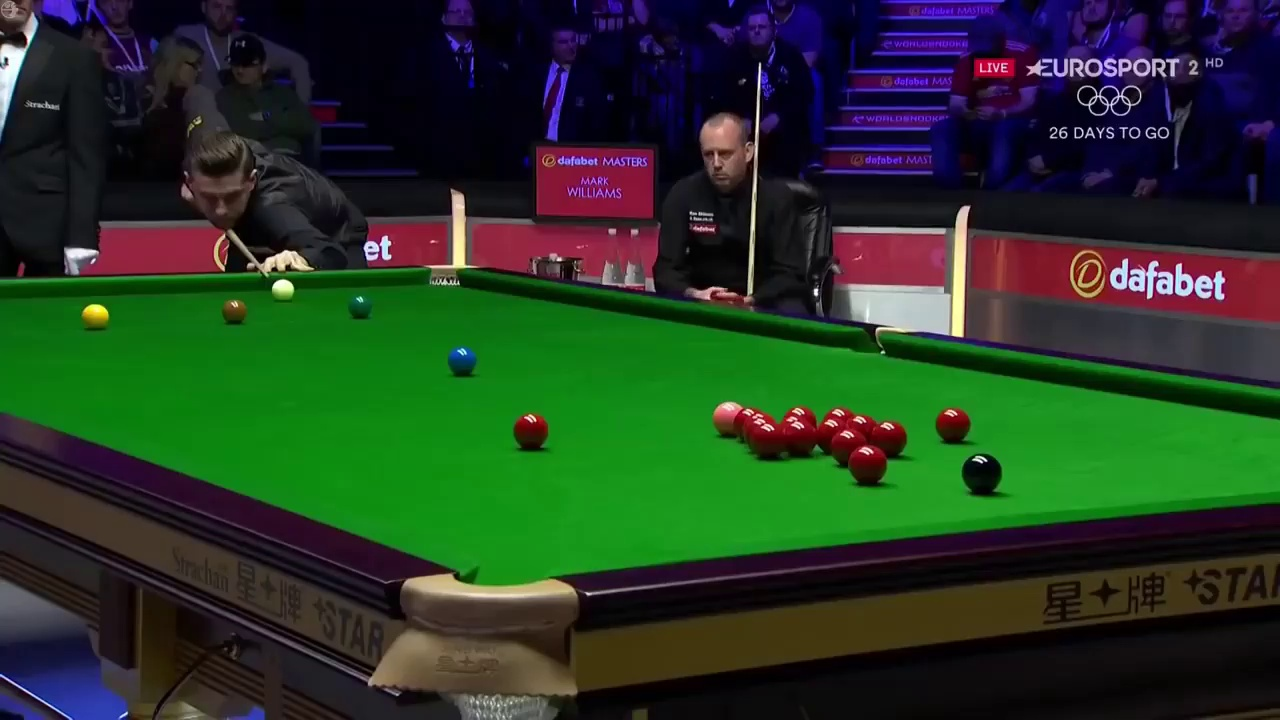black: (960, 454, 1001, 490)
blue: (446, 346, 478, 374)
brown: (223, 297, 248, 322)
green: (350, 293, 371, 317)
red: (848, 443, 887, 484), (512, 413, 548, 449), (935, 407, 971, 443), (754, 426, 785, 458), (784, 422, 812, 453), (873, 421, 904, 447)
white: (267, 280, 296, 302)
yellow: (81, 305, 110, 329)
